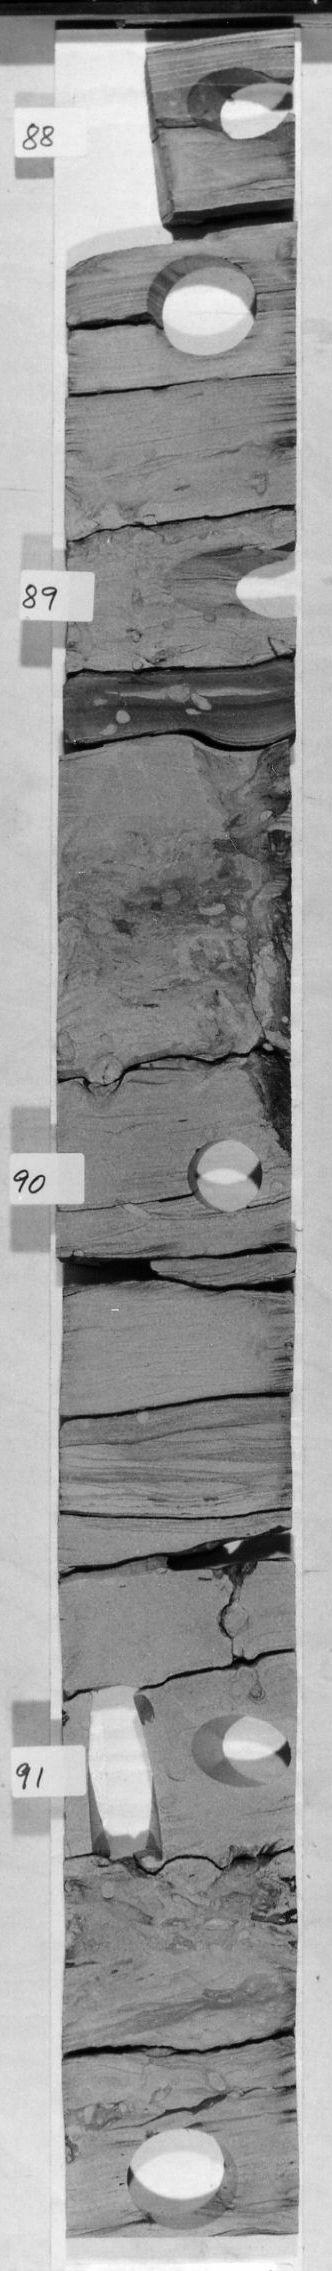hplug: (165, 542, 294, 627), (180, 62, 291, 142), (187, 1710, 294, 1792), (180, 1135, 275, 1217)
scal: (122, 2120, 246, 2233), (144, 251, 265, 362)
vplug: (78, 1684, 170, 1868)
